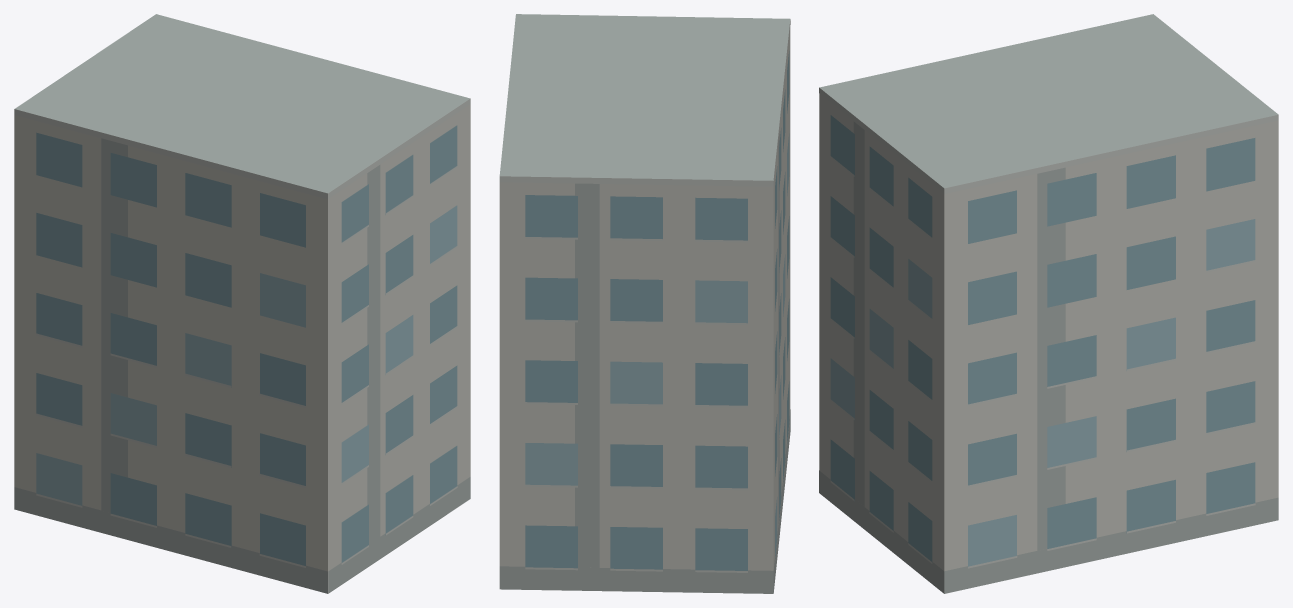
The model's file is survey-upis-32600225.glb.
3 views of the same model, side by side, from view 1: azimuth 30°, elevation 25°; view 2: azimuth 150°, elevation 25°; view 3: azimuth 270°, elevation 25° (orthographic). The views are drawn at different scales.
Visible parts, largest first — view 1: survey-upis-32600225.tmp; view 2: survey-upis-32600225.tmp; view 3: survey-upis-32600225.tmp.
Boxes of the visible parts, x1,y1,x2,y2 form: survey-upis-32600225.tmp: (14, 14, 470, 593); survey-upis-32600225.tmp: (499, 14, 790, 593); survey-upis-32600225.tmp: (819, 14, 1278, 593).
Bounding box in the file's own units: 15.51 × 16.8 × 17.27.
